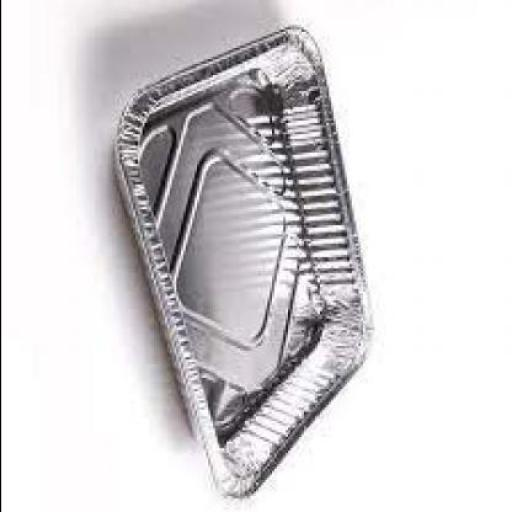metal: (116, 23, 375, 498)
